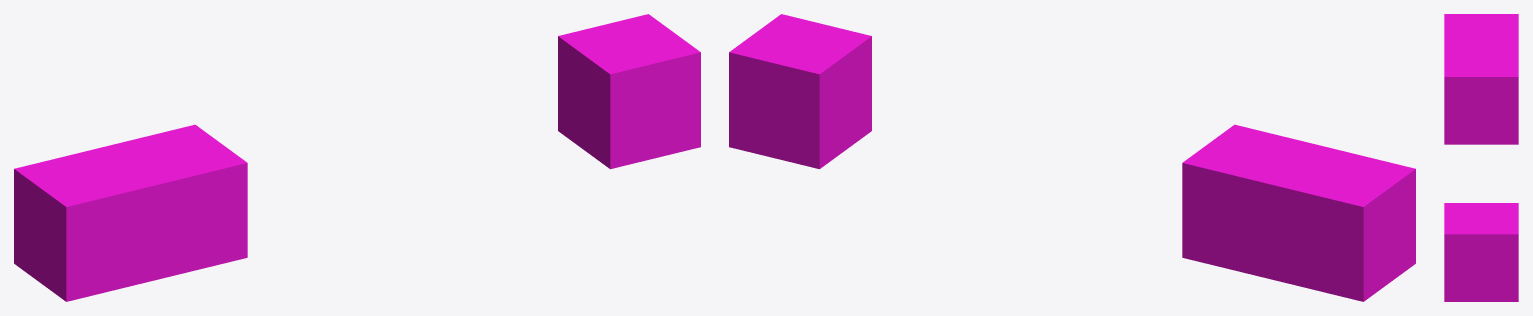
3 views of the same model, side by side, from view 1: azimuth 30°, elevation 25°; view 2: azimuth 150°, elevation 25°; view 3: azimuth 270°, elevation 25° (orthographic). The views are drawn at different scales.
Parts seen in each view (by area): view 1: 105.1; view 2: 105.1; view 3: 105.1.
Boxes of the visible parts, box(x1,y1,x2,y2) form: 105.1: box(14, 14, 700, 301); 105.1: box(729, 14, 1415, 301); 105.1: box(1444, 14, 1518, 301).
Size of the model in its own units: 70 by 10 by 10.
Materials: 1 (1 with a texture image).
